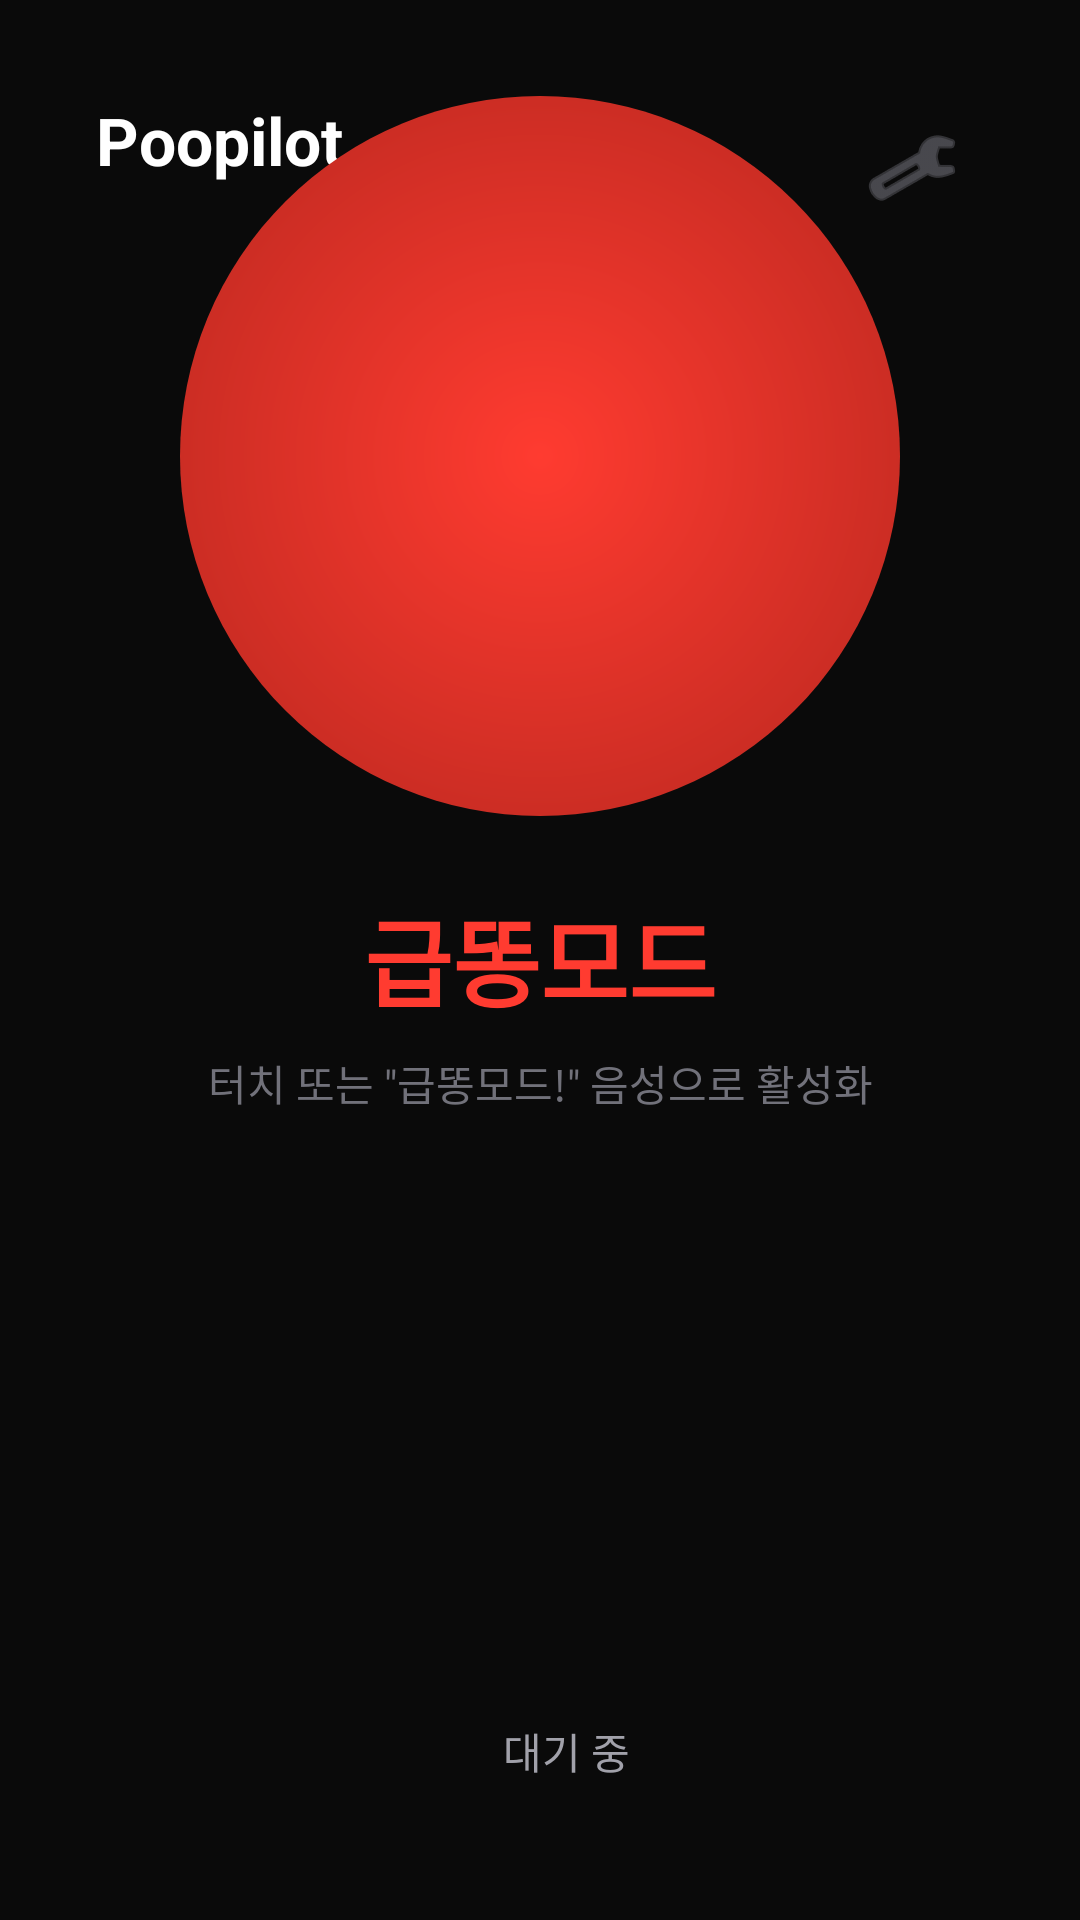

Named icons in this screenshot (1080w x 1920h) and their centers, [x,y]:
Settings: [912,168]
